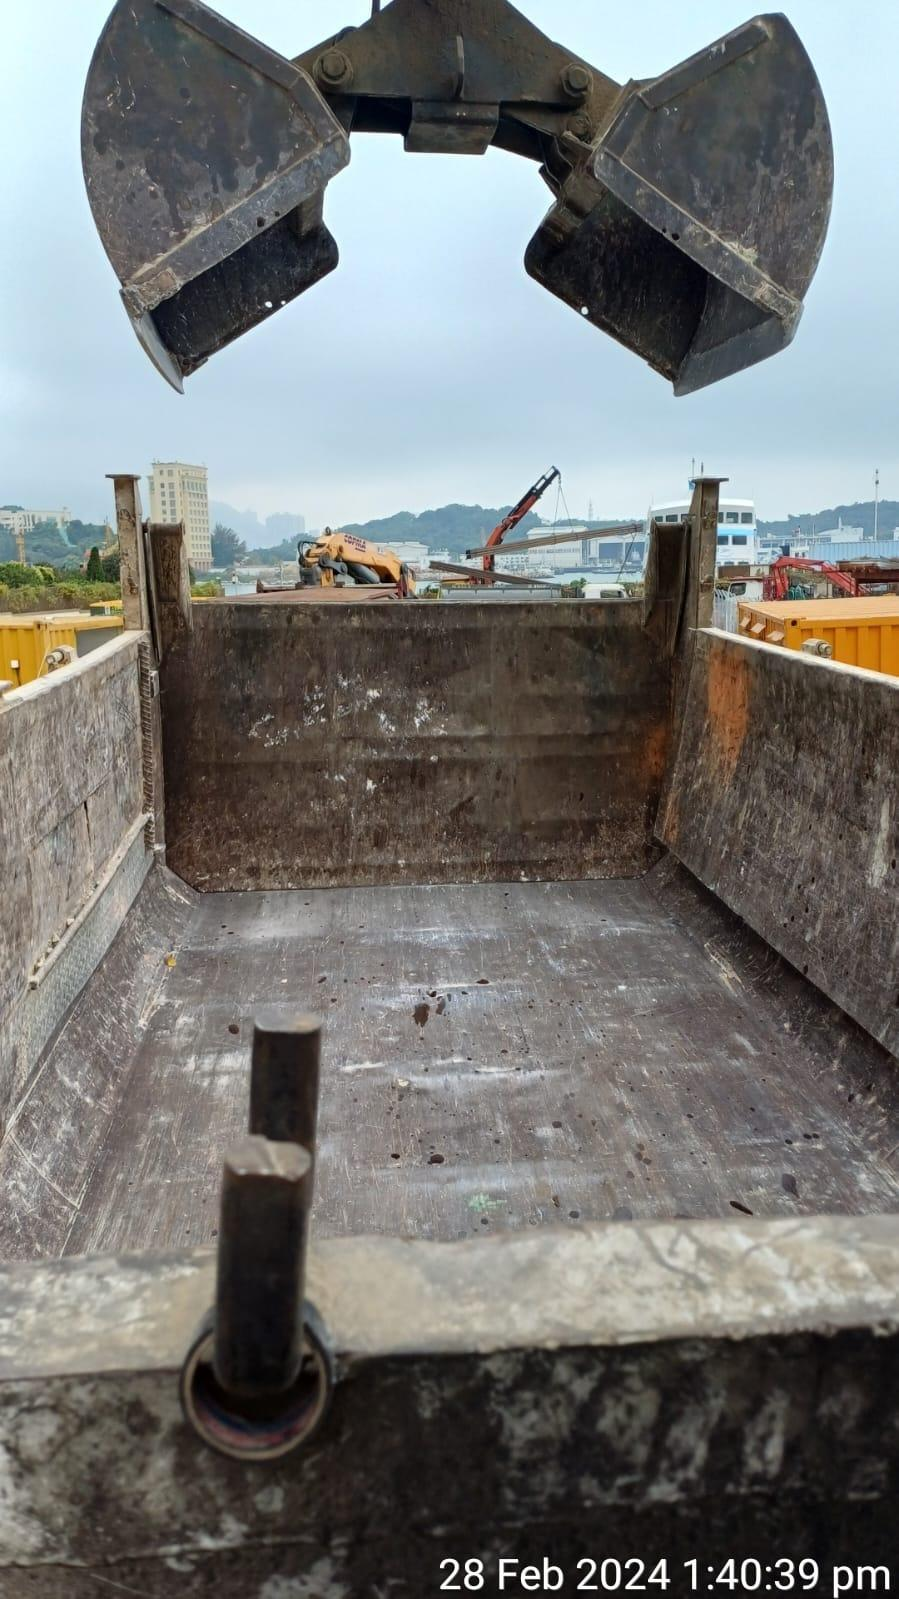nothing: (102, 870, 899, 1248)
